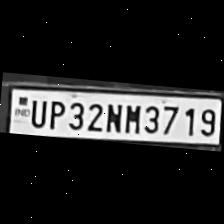1: (178, 105, 197, 136)
2: (84, 98, 106, 132)
3: (64, 98, 86, 132), (140, 102, 161, 134)
7: (159, 102, 178, 136)
9: (195, 105, 218, 138)
M: (121, 101, 142, 134)
N: (102, 100, 123, 132)
P: (44, 96, 65, 130)
U: (26, 97, 47, 128)
